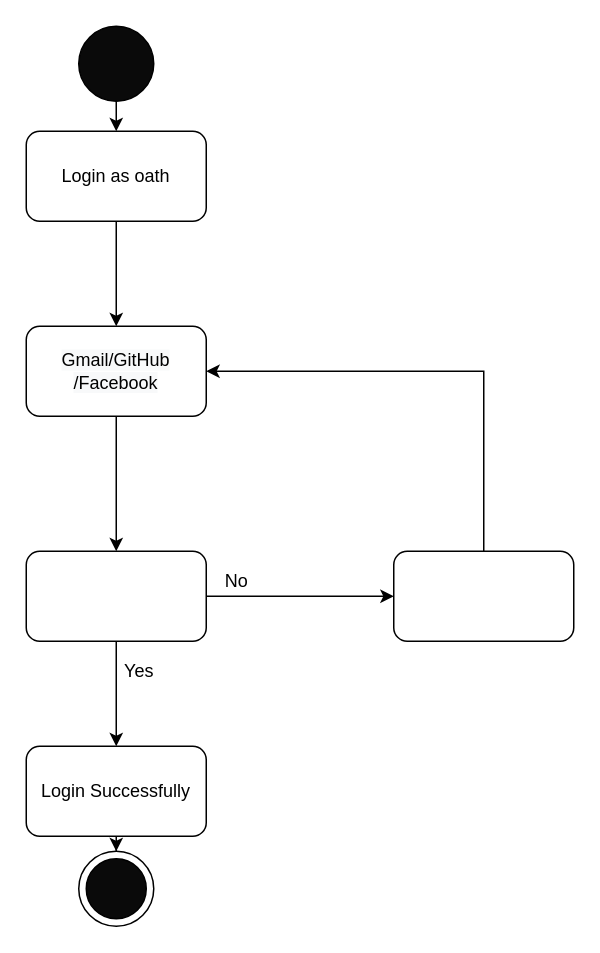
This 600x953 diagram has some shape labels left out. The centre of each missing label's shape, as x and y in pixels:
"Check the Validation" belongs at [115,595].
"Show Error" belongs at [483,595].
